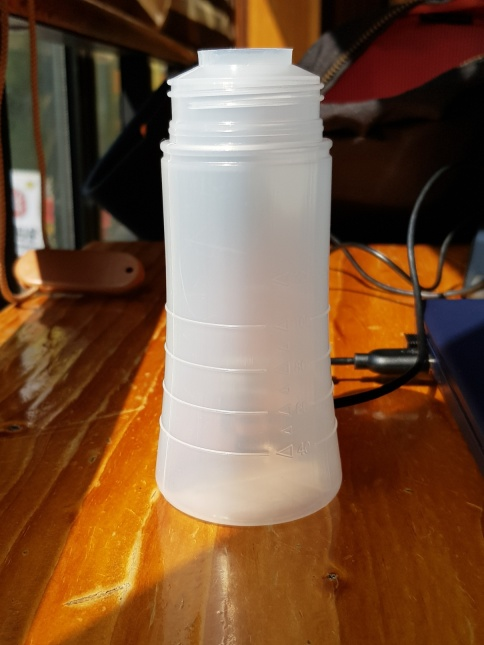Plastic: (149, 39, 345, 531)
